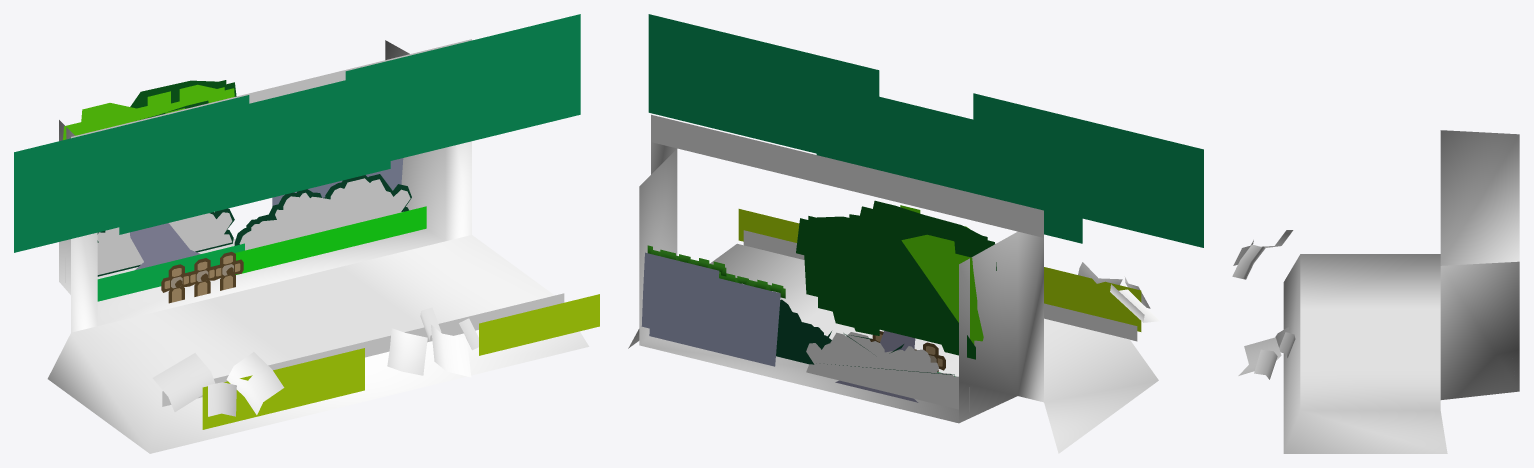
Rendered from outputCleanHumpless1.obj.
The picture shows the model from 3 angles, left to right: view 1: azimuth 30°, elevation 25°; view 2: azimuth 150°, elevation 25°; view 3: azimuth 270°, elevation 25°; orthographic projection. The views are drawn at different scales.
Bounding box in the file's own units: 0.53 × 0.26 × 0.291.
